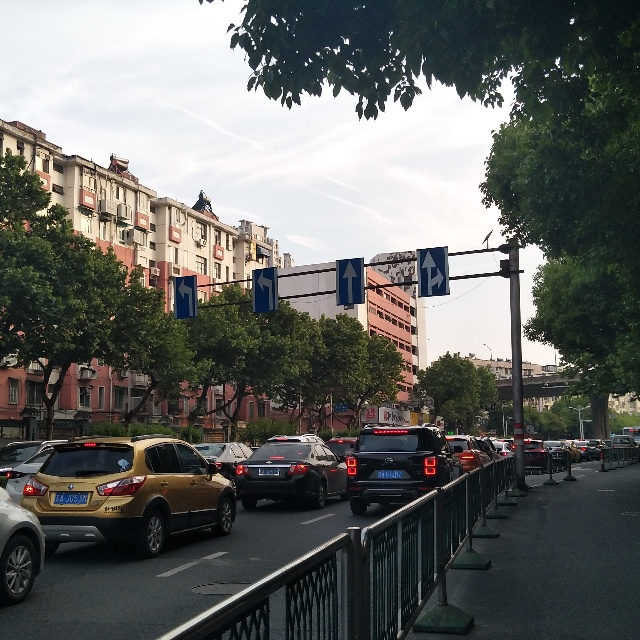left: (251, 267, 279, 312), (173, 275, 197, 319)
straight: (336, 257, 365, 306)
